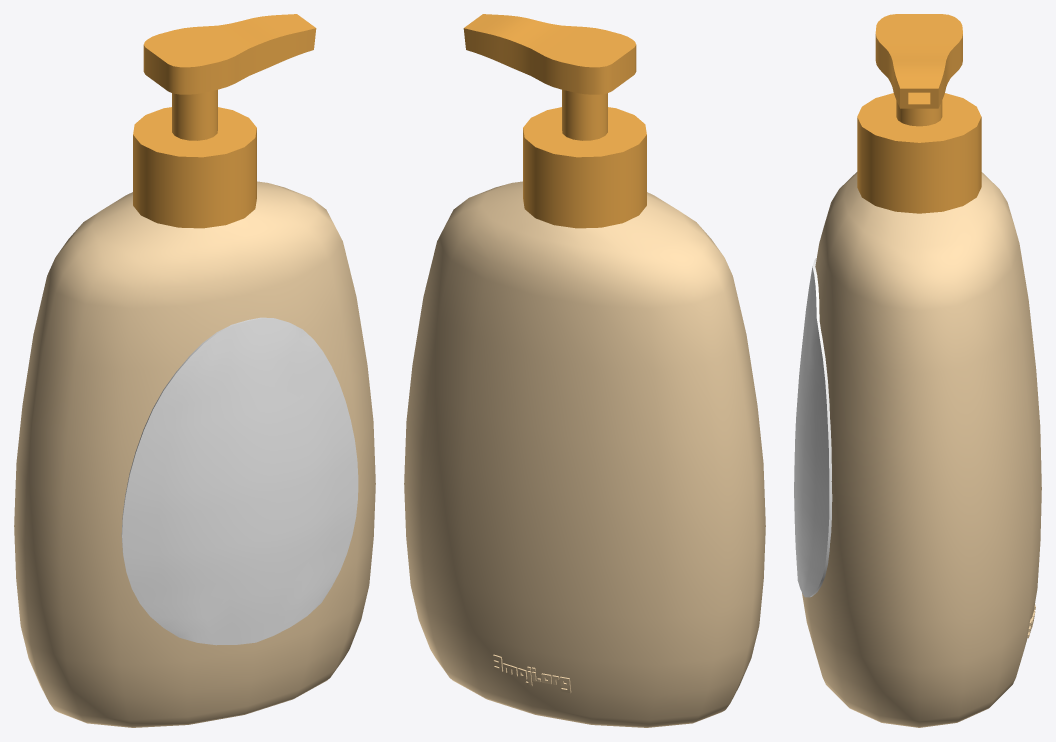
The model's file is lotion_bottle.glb.
3 renders of one model, left to right at view 1: azimuth 30°, elevation 25°; view 2: azimuth 150°, elevation 25°; view 3: azimuth 270°, elevation 25°, orthographic.
Parts seen in each view (by area): view 1: Circle.2606; view 2: Circle.2606; view 3: Circle.2606.
Part boxes in pixels (x1,y1,x2,y2): Circle.2606: [14, 14, 375, 727]; Circle.2606: [404, 14, 765, 727]; Circle.2606: [794, 14, 1041, 727].
Size of the model in its own units: 1.27 by 2.27 by 0.8072.
Materials: 1 (1 with a texture image).
